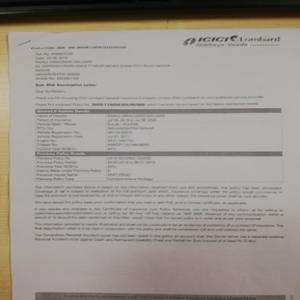image: (176, 28, 284, 49)
table: (34, 106, 283, 151), (36, 150, 283, 187)
text: (28, 43, 266, 107), (33, 187, 287, 244)
